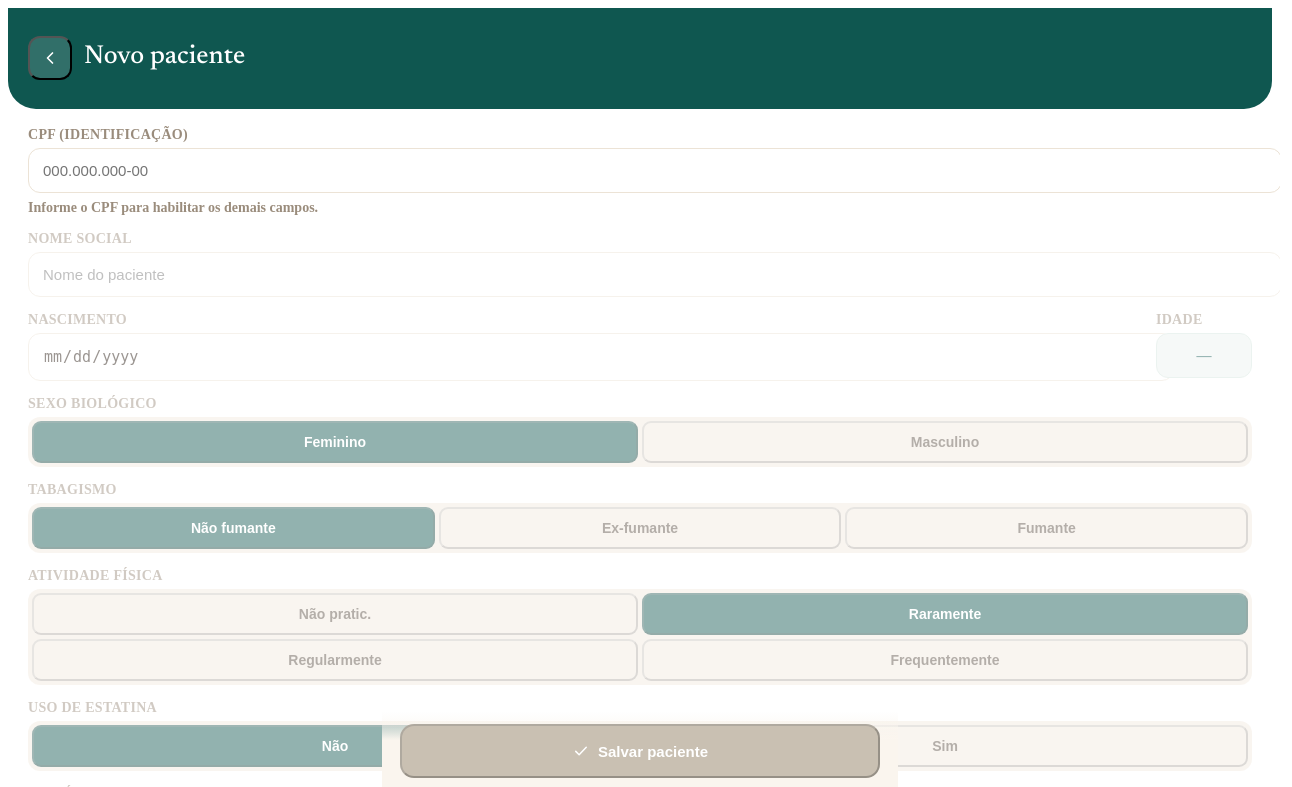
it: Cadastrar paciente (UC02) › passos 1–2: os demais campos só são habilitados após o identificador ser reconhecido como novo
The width and height of the screenshot is (1292, 787).
Expected: the button "Salvar paciente" is disabled, [400,724,880,778]
Type "11144477735" into the field named "CPF (identificação)" at (654, 171), box [28,148,1280,193]
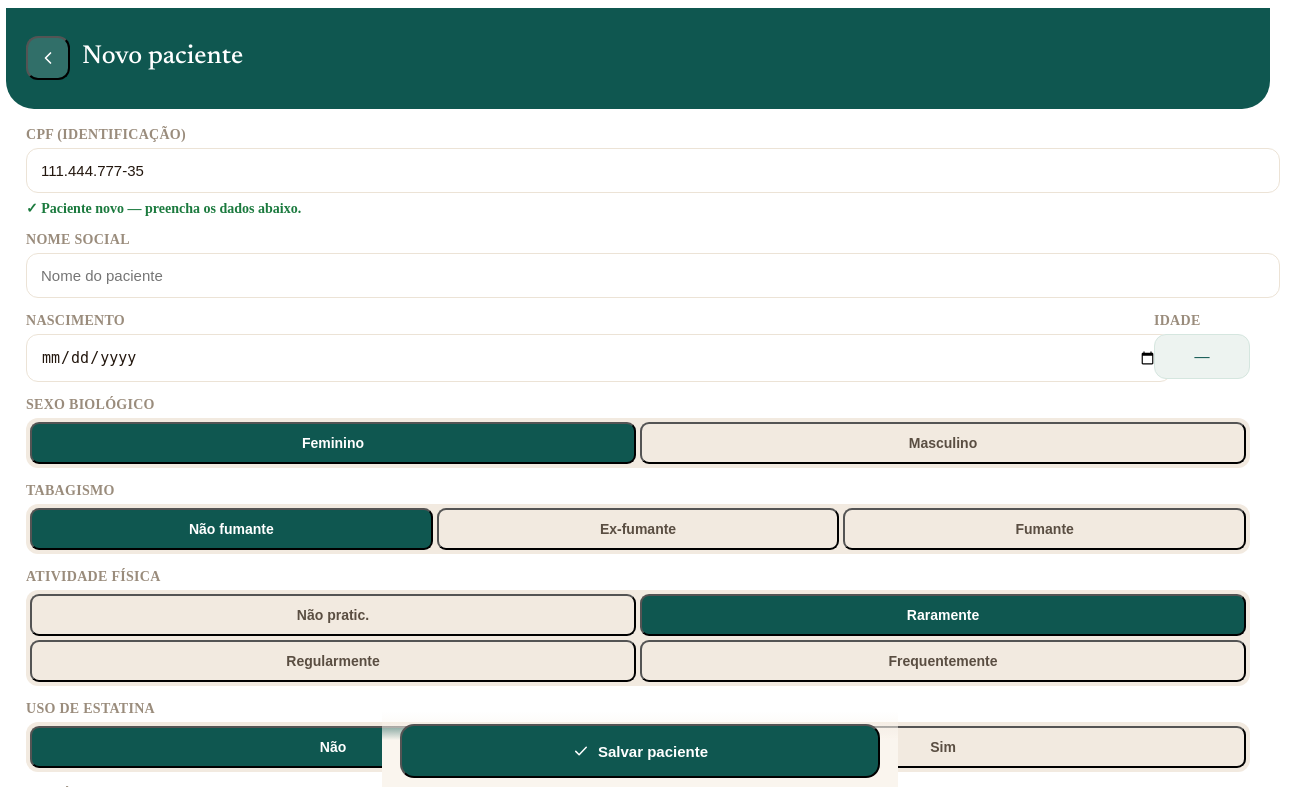
Expected: the field named "Nome social" is enabled, [26,253,1280,298]
Now the text "✓ Paciente novo — preencha os dados abaixo." is shown, box [26,201,301,216]
Now the button "Salvar paciente" is enabled, box [400,724,880,778]
